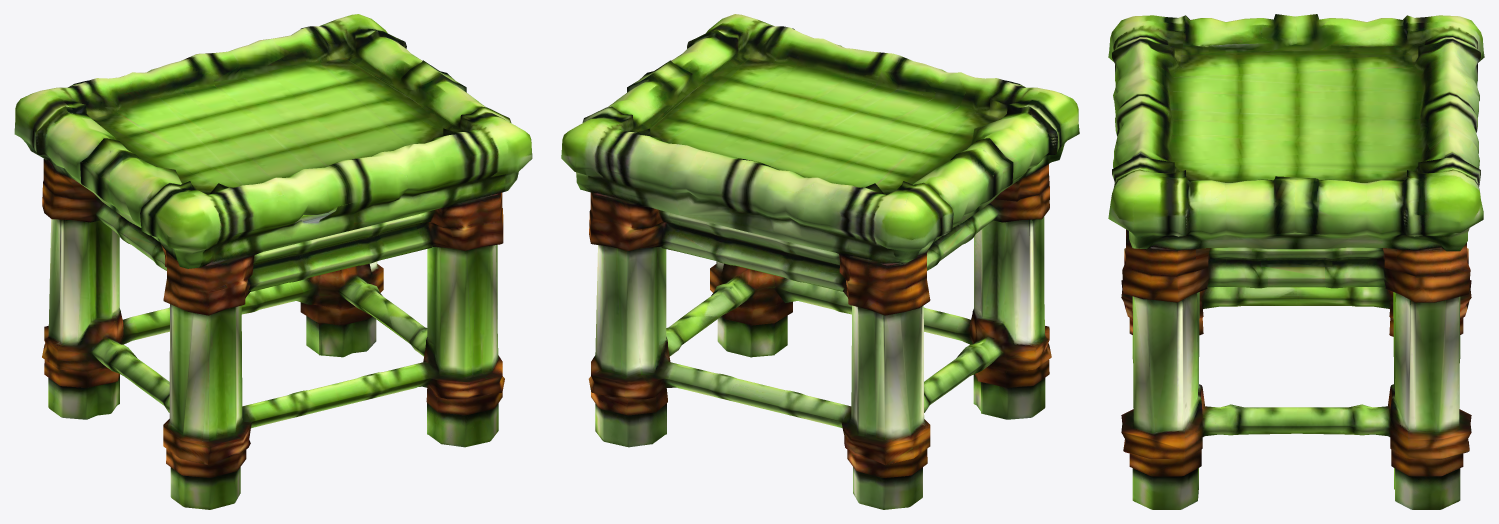
The model's file is Tavern_Emerald_Cottage.glb.
3 views of the same model, side by side, from view 1: azimuth 30°, elevation 25°; view 2: azimuth 150°, elevation 25°; view 3: azimuth 270°, elevation 25° (orthographic). The views are drawn at different scales.
Bounding box in the file's own units: 1.91 × 1.54 × 1.58.
1 material, 1 textured.
